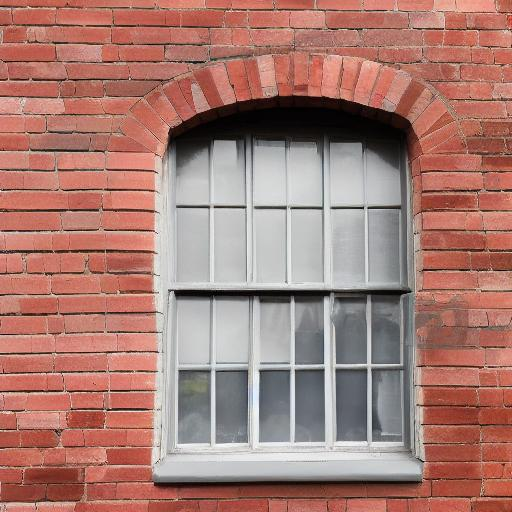Window: (100, 53, 479, 487)
